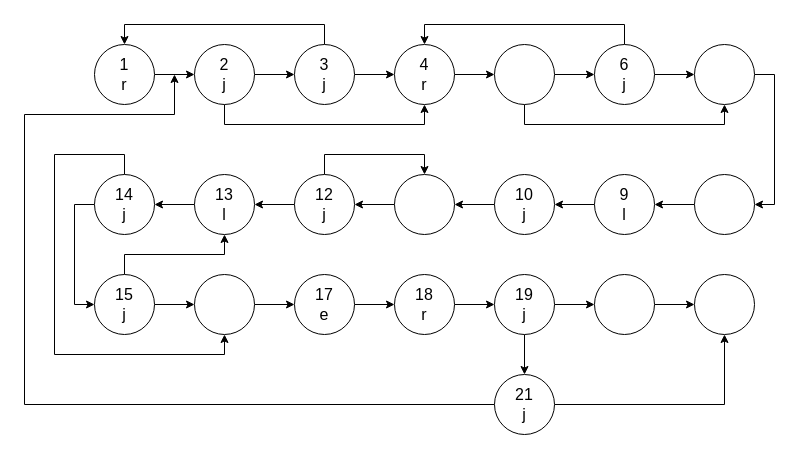
This 800x452 diagram has some shape labels left out. Here are the shapes that lost their labels. From the top down, the box of each, then its label:
(494, 44, 554, 104): 5 j
(694, 44, 754, 104): 7 l
(394, 174, 454, 234): 11 l
(694, 174, 754, 234): 8 e
(194, 274, 254, 334): 16 r
(594, 274, 654, 334): 20 p
(694, 274, 754, 334): 22 s
